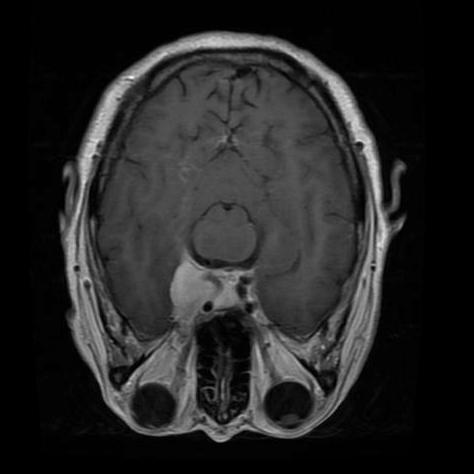Tumour-Meningioma: (166, 202, 292, 268)
